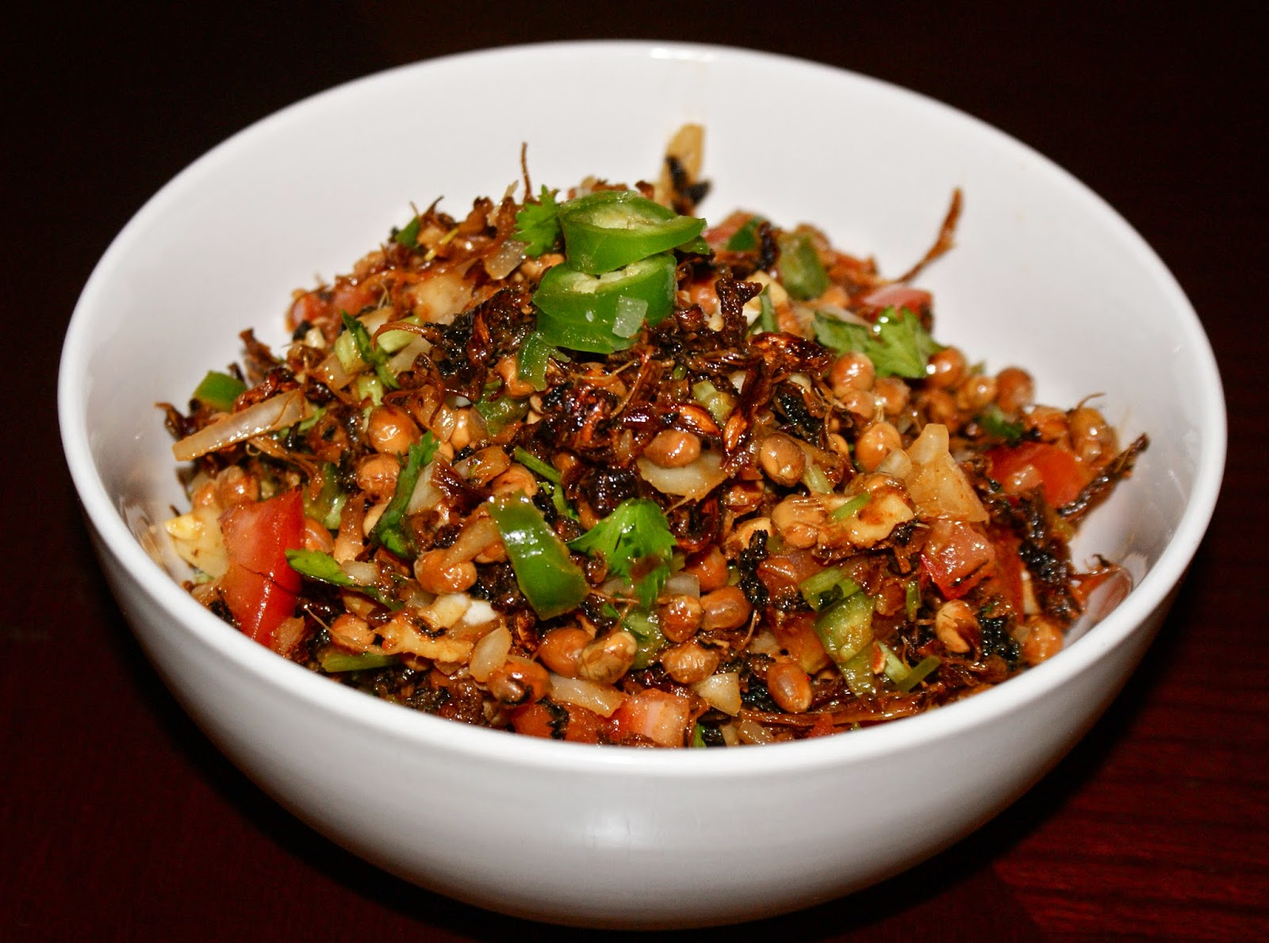gundruk: (236, 180, 1067, 664)
